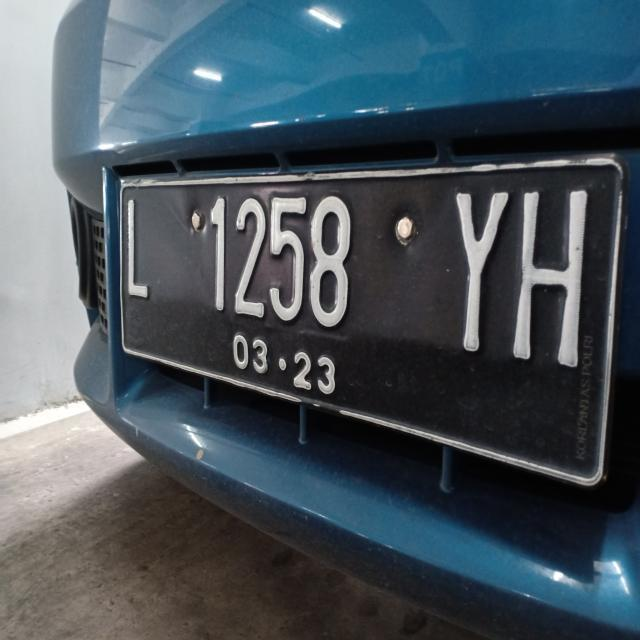1: (208, 190, 230, 319)
2: (234, 193, 268, 325)
5: (271, 190, 307, 332)
8: (309, 192, 356, 328)
H: (514, 180, 588, 378)
L: (122, 192, 155, 304)
Y: (451, 182, 508, 366)
